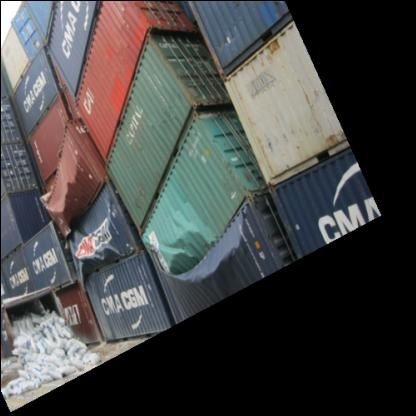Damage: (152, 202, 258, 290), (26, 131, 108, 213), (55, 220, 149, 282), (3, 286, 82, 354)
